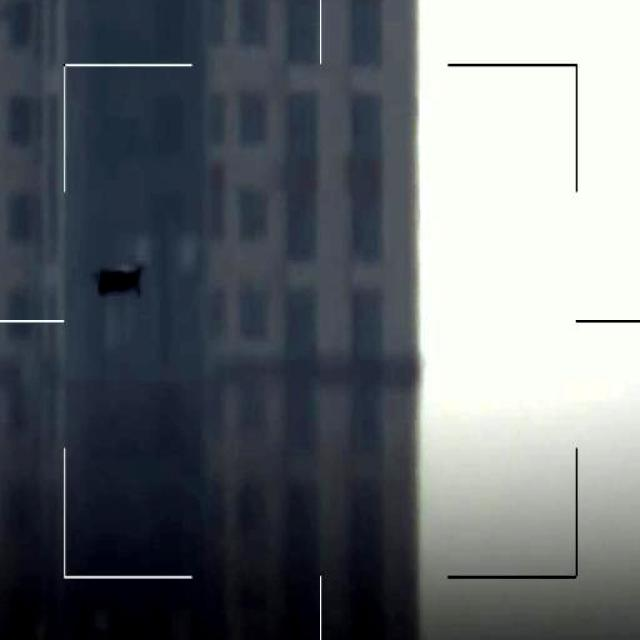bird: (96, 264, 140, 294)
